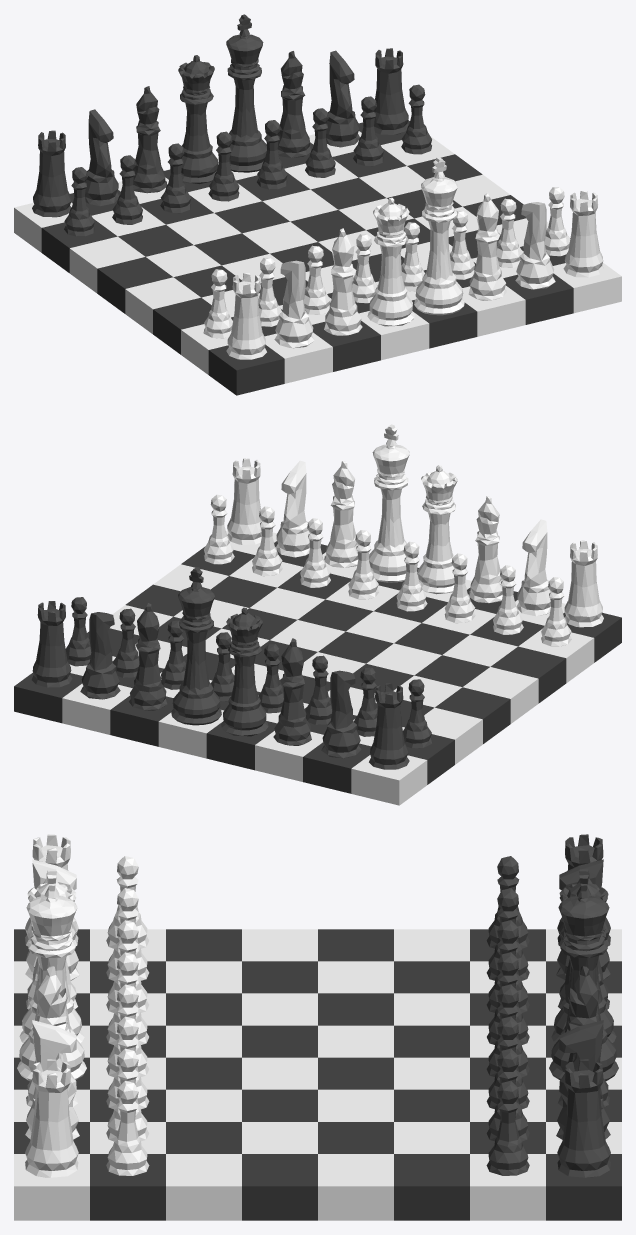
The model's file is chess.glb.
The picture shows the model from 3 angles, top to bottom: view 1: azimuth 30°, elevation 25°; view 2: azimuth 150°, elevation 25°; view 3: azimuth 270°, elevation 25°; orthographic projection. The views are drawn at different scales.
Visible parts, largest first — view 1: Object_2; view 2: Object_2; view 3: Object_2.
Part boxes in pixels (box(x1,y1,x2,y2)): Object_2: box(14, 14, 621, 395); Object_2: box(14, 424, 621, 805); Object_2: box(14, 834, 621, 1220).
Bounding box in the file's own units: 9.95 × 4.29 × 9.95.
1 material, 1 textured.
